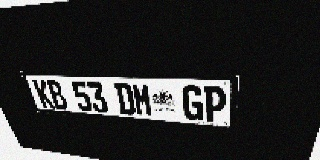3: (86, 82, 109, 113)
5: (70, 81, 94, 112)
B: (45, 80, 69, 110)
D: (113, 83, 136, 115)
G: (182, 85, 203, 121)
K: (32, 80, 56, 109)
M: (131, 83, 154, 117)
P: (204, 86, 227, 123)
